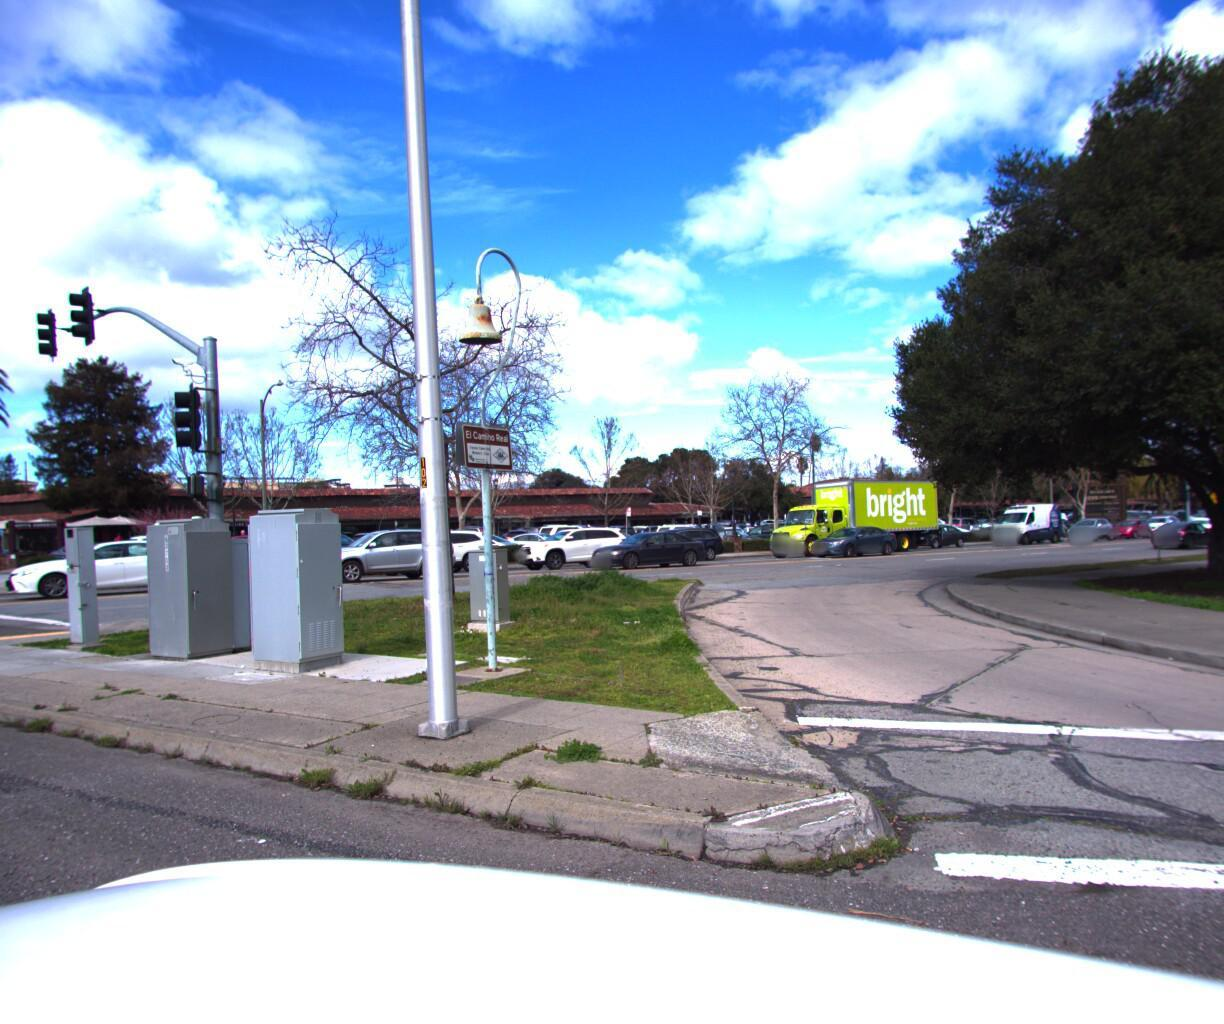car: (5, 536, 216, 604), (316, 527, 472, 587), (380, 526, 507, 575), (585, 526, 715, 573), (508, 524, 633, 571), (126, 528, 231, 567), (628, 525, 727, 565), (809, 524, 907, 560), (499, 528, 589, 560), (534, 520, 625, 551), (984, 500, 1062, 535), (653, 521, 732, 549), (1146, 520, 1217, 551), (1100, 516, 1158, 544), (903, 522, 966, 546), (1133, 513, 1187, 539), (919, 516, 981, 538), (1059, 516, 1114, 540), (956, 517, 1016, 538), (1208, 519, 1224, 548)
truck: (752, 485, 944, 568)
